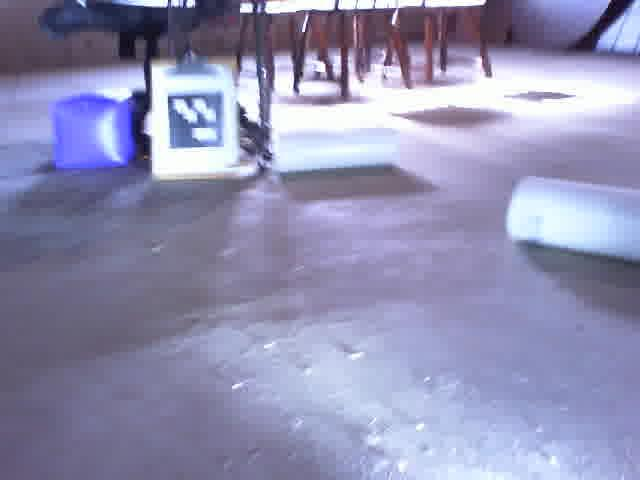coral: (503, 170, 640, 266), (271, 123, 407, 175)
